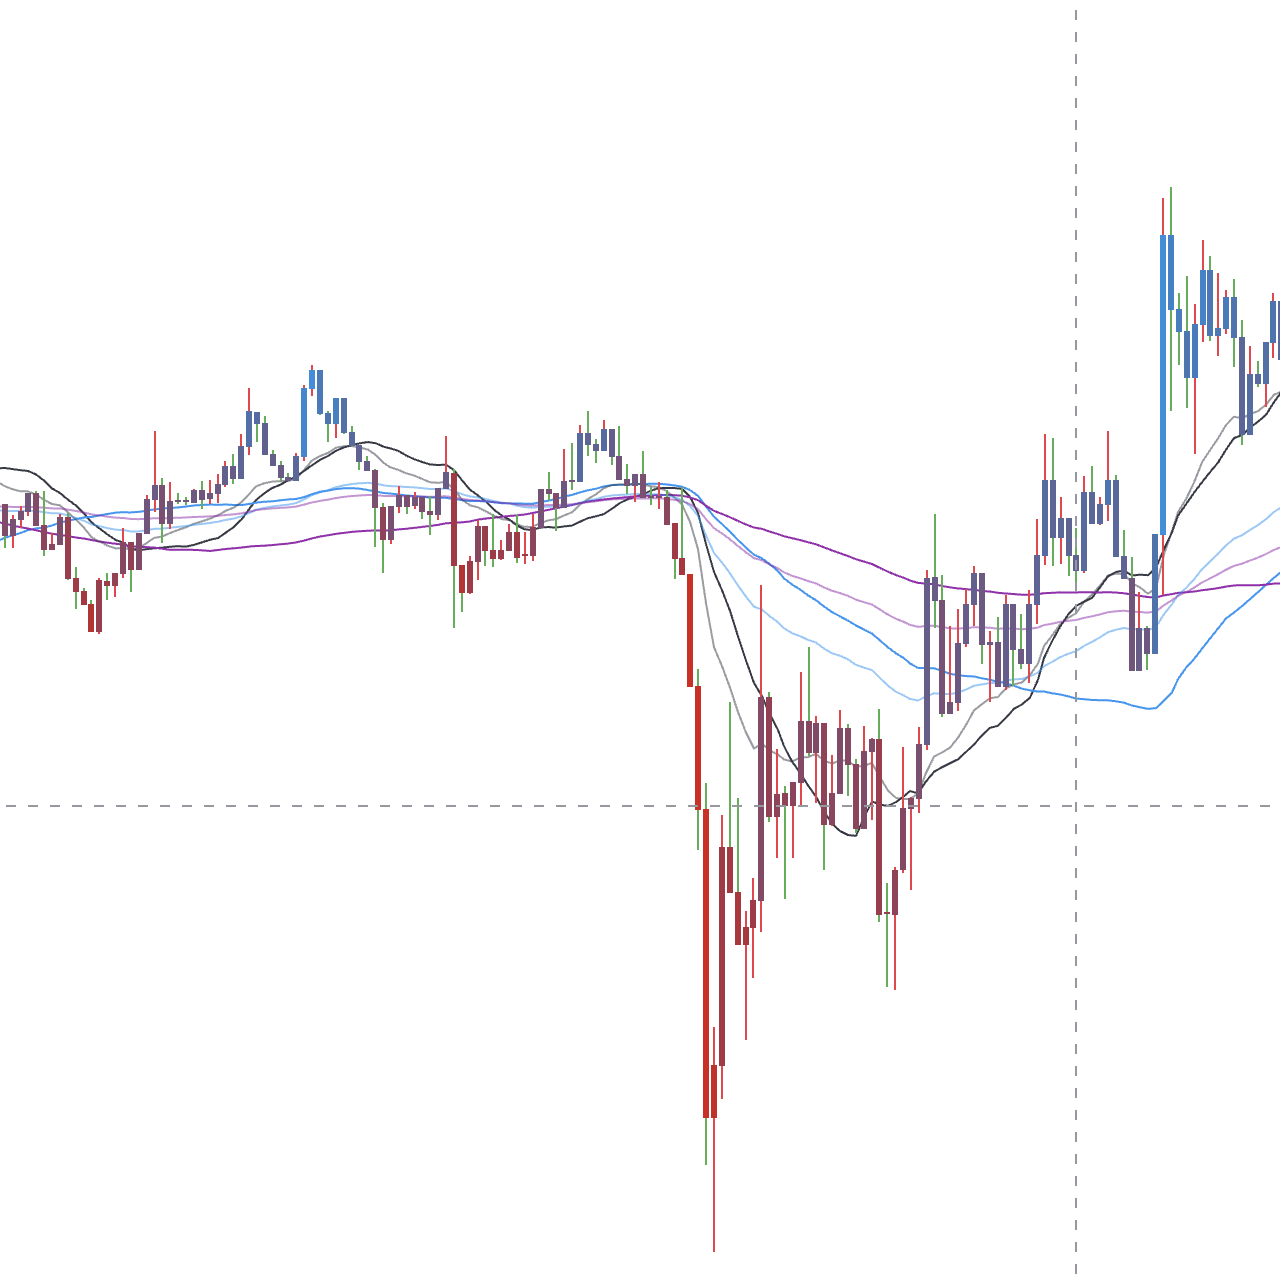ma_cluster: (593, 450, 700, 570)
